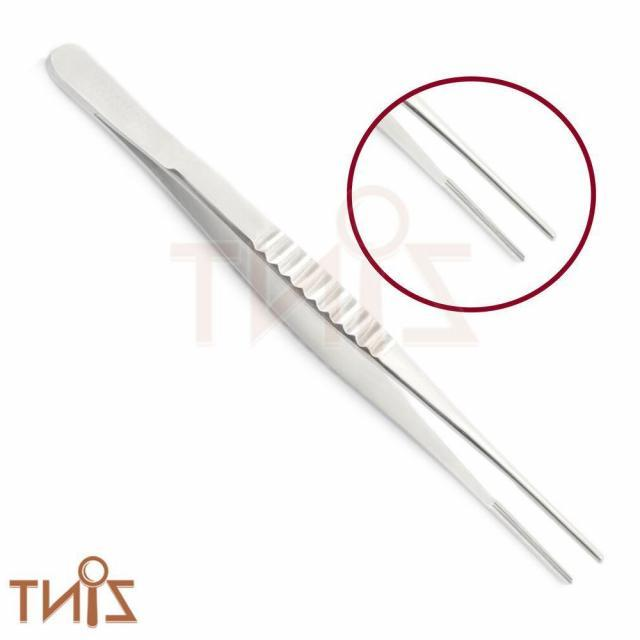Forceps: (41, 40, 604, 587), (376, 88, 554, 268)
